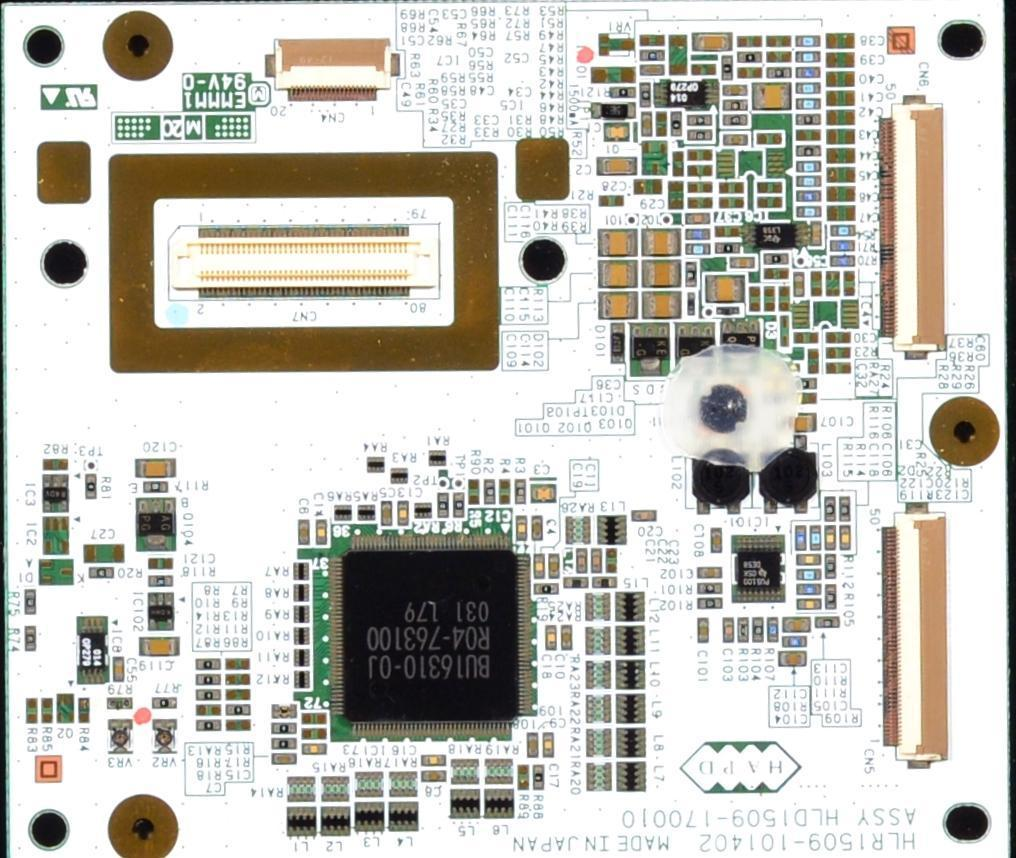Capacitor: (711, 276, 742, 299), (755, 86, 787, 106), (669, 39, 683, 70), (137, 461, 170, 474), (648, 235, 674, 251), (606, 232, 630, 249), (636, 177, 661, 192), (607, 265, 628, 282), (89, 547, 118, 558), (830, 146, 851, 161), (145, 640, 170, 652), (608, 296, 627, 311), (826, 35, 849, 47), (650, 268, 671, 281), (652, 297, 671, 311), (532, 483, 551, 497), (831, 130, 853, 142), (831, 73, 853, 85), (829, 54, 850, 65), (829, 172, 851, 182), (700, 38, 721, 48), (316, 520, 326, 541), (275, 754, 295, 764), (609, 160, 628, 170), (830, 208, 849, 218), (724, 135, 745, 144), (689, 153, 709, 162), (825, 331, 847, 339), (722, 185, 740, 194), (832, 189, 850, 198), (782, 654, 800, 663), (830, 93, 848, 102), (813, 272, 821, 292), (299, 520, 307, 540), (724, 619, 731, 641), (833, 111, 850, 120), (700, 567, 717, 576), (798, 334, 817, 342), (633, 513, 652, 521), (542, 733, 550, 752), (795, 274, 802, 295), (608, 129, 624, 138), (759, 135, 777, 143), (398, 503, 406, 521), (712, 532, 720, 550), (732, 258, 749, 266), (548, 627, 555, 646), (383, 505, 391, 521), (643, 117, 650, 135), (689, 215, 707, 222), (719, 229, 737, 236), (829, 363, 847, 370), (699, 621, 706, 639), (579, 551, 585, 571), (787, 621, 802, 629), (811, 353, 818, 370), (550, 555, 557, 571), (643, 66, 659, 73), (727, 88, 743, 95), (149, 560, 167, 566), (305, 745, 323, 751), (827, 531, 834, 546), (518, 518, 524, 535), (534, 519, 540, 536), (422, 757, 439, 763), (801, 133, 815, 140), (812, 226, 818, 242), (843, 531, 849, 547), (428, 771, 444, 777), (803, 600, 818, 606), (565, 627, 570, 645), (116, 661, 121, 679), (532, 734, 537, 752), (593, 550, 598, 567), (536, 557, 540, 573), (803, 557, 815, 562)
Connector: (169, 223, 441, 299), (884, 116, 946, 336), (891, 522, 949, 747), (275, 46, 381, 91)
IC: (342, 545, 518, 719), (736, 549, 779, 592), (80, 621, 102, 676), (660, 83, 706, 102), (149, 593, 172, 627), (45, 519, 65, 551), (46, 476, 68, 505), (760, 224, 786, 242)
Resistor: (485, 760, 509, 783), (358, 774, 381, 796), (290, 777, 313, 799), (321, 778, 344, 798), (455, 759, 479, 778), (588, 696, 606, 721), (390, 776, 414, 794), (590, 730, 608, 752), (568, 519, 585, 540), (587, 664, 604, 685), (591, 628, 607, 650), (590, 597, 606, 618), (590, 768, 607, 783), (830, 349, 849, 360), (687, 182, 710, 191), (640, 85, 650, 105), (844, 272, 853, 293), (532, 766, 541, 787), (337, 506, 350, 520), (519, 767, 528, 787), (470, 481, 478, 503), (196, 706, 220, 713), (306, 730, 327, 738), (279, 706, 294, 717), (86, 474, 93, 497), (798, 116, 818, 124), (429, 453, 445, 463), (393, 468, 406, 480), (757, 199, 779, 206), (295, 564, 306, 578), (295, 584, 306, 598), (295, 607, 306, 621), (296, 630, 307, 644), (718, 198, 737, 206), (595, 576, 614, 584), (820, 619, 839, 627), (740, 620, 748, 639), (369, 459, 384, 469), (276, 737, 291, 747), (715, 244, 736, 251), (754, 617, 761, 638), (45, 461, 63, 469), (485, 480, 492, 500), (828, 556, 835, 576), (91, 567, 111, 574), (828, 587, 835, 607), (108, 699, 128, 706), (44, 700, 50, 723), (840, 500, 848, 517), (198, 690, 215, 698), (25, 593, 32, 612), (304, 715, 323, 722), (691, 198, 707, 206), (768, 255, 784, 263), (697, 65, 713, 73), (658, 114, 664, 135), (759, 185, 777, 192), (829, 275, 835, 296), (439, 496, 446, 514), (538, 584, 556, 591), (769, 619, 776, 637), (297, 653, 306, 667), (723, 59, 730, 77), (29, 700, 35, 721), (362, 508, 373, 519), (688, 169, 708, 175), (826, 499, 832, 519), (25, 627, 31, 647), (154, 699, 174, 705), (769, 69, 784, 77), (812, 527, 818, 546), (641, 53, 660, 59), (801, 150, 817, 157), (502, 482, 509, 498), (742, 55, 758, 62), (801, 584, 815, 592), (228, 676, 244, 683), (691, 134, 709, 140), (147, 485, 165, 491), (798, 528, 804, 546), (80, 700, 86, 718), (228, 720, 246, 726), (742, 72, 760, 78), (689, 231, 704, 238), (800, 38, 815, 45), (674, 156, 680, 173), (152, 577, 166, 584), (786, 638, 800, 645), (671, 114, 677, 130), (453, 496, 459, 512), (199, 675, 215, 681), (199, 723, 215, 729), (230, 690, 243, 697), (688, 266, 694, 281), (739, 40, 754, 46), (419, 507, 429, 516), (700, 585, 718, 590), (645, 38, 662, 43), (613, 90, 630, 95), (728, 103, 742, 109), (674, 186, 678, 207), (841, 243, 853, 250), (771, 53, 785, 59), (801, 54, 815, 60), (201, 662, 215, 668), (802, 85, 816, 91), (692, 116, 705, 122), (690, 247, 703, 253), (729, 118, 740, 125), (297, 675, 304, 686), (773, 39, 785, 45), (803, 572, 815, 578), (802, 69, 814, 75), (279, 724, 291, 730), (704, 600, 718, 605), (801, 192, 814, 197), (837, 258, 850, 263), (833, 228, 849, 232), (518, 482, 522, 498), (231, 665, 247, 669), (802, 163, 814, 168), (805, 208, 817, 213), (569, 579, 581, 584), (800, 180, 814, 184), (232, 707, 246, 711), (804, 101, 818, 104)
